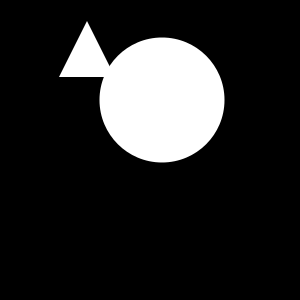rectangle: (100, 37, 225, 162)
triangle: (59, 21, 115, 77)
